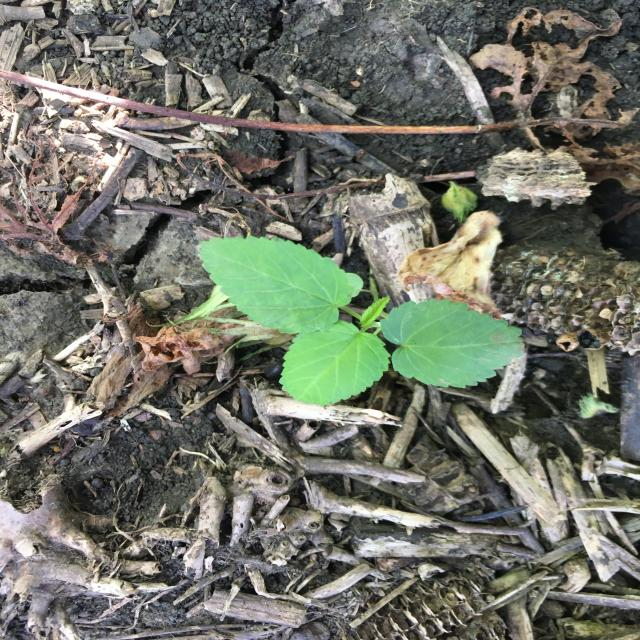PricklySida: (196, 233, 526, 408)
